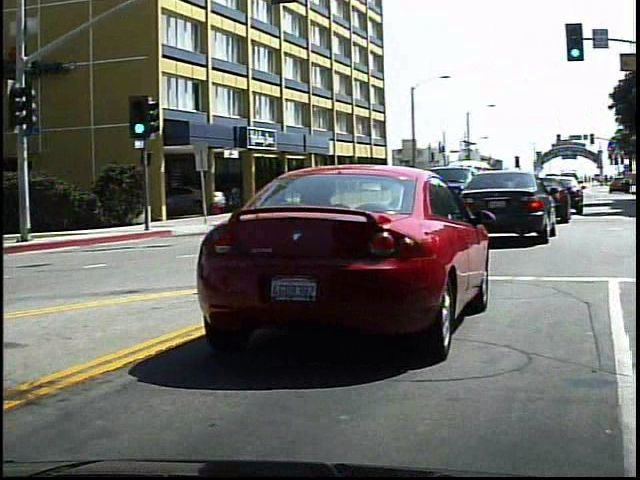person: (269, 180, 288, 216)
